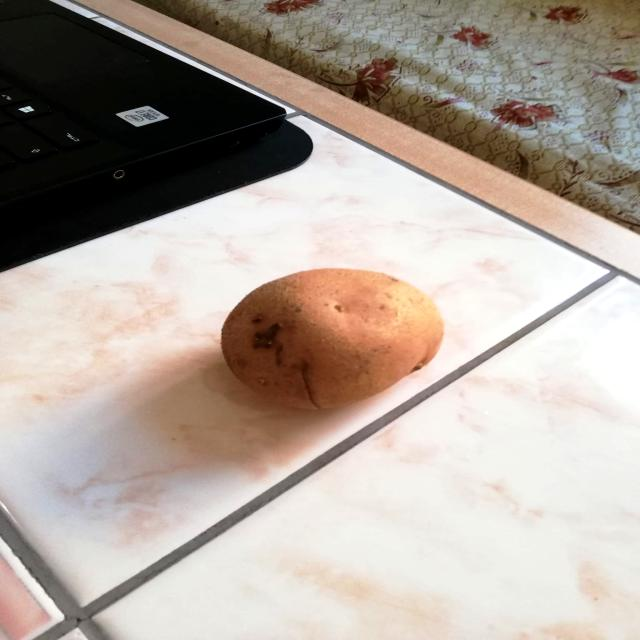potato: (215, 260, 453, 414)
